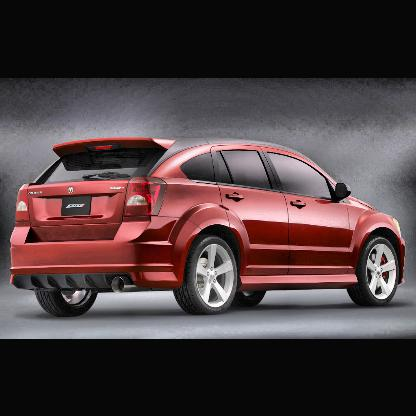Dodge Caliber Wagon 2007: (11, 136, 407, 316)
